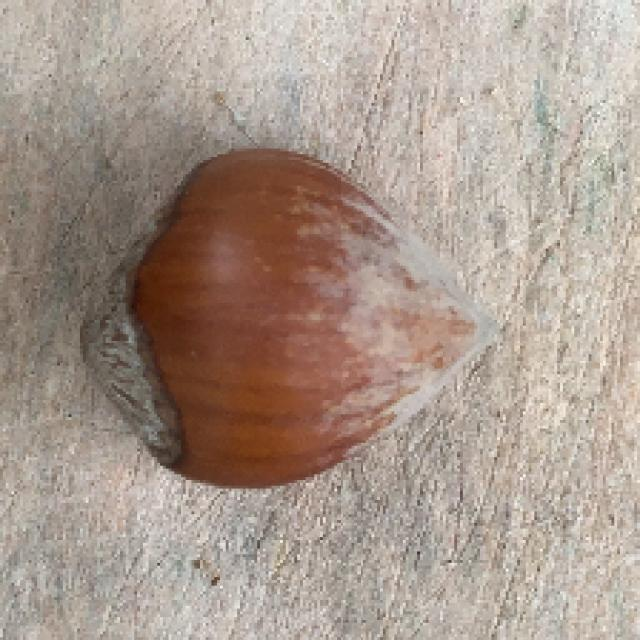QualityHazelnut: (74, 147, 509, 489)
